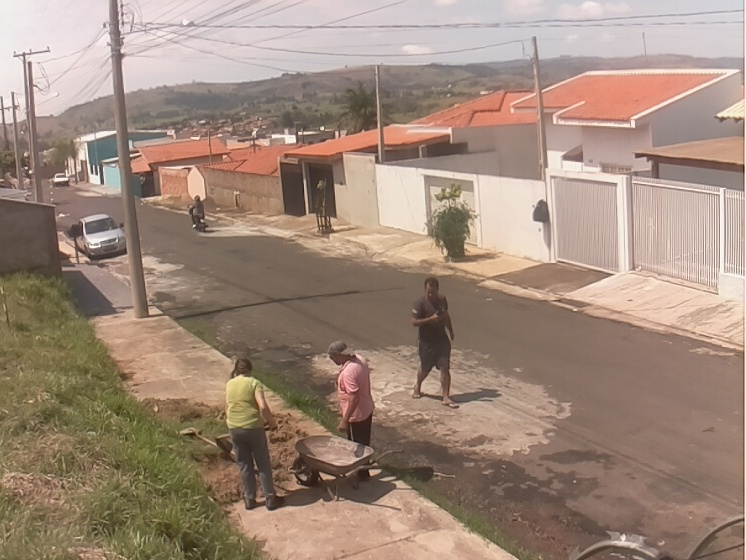person: (224, 357, 285, 512), (328, 338, 376, 480), (410, 277, 461, 409), (189, 195, 206, 227)
